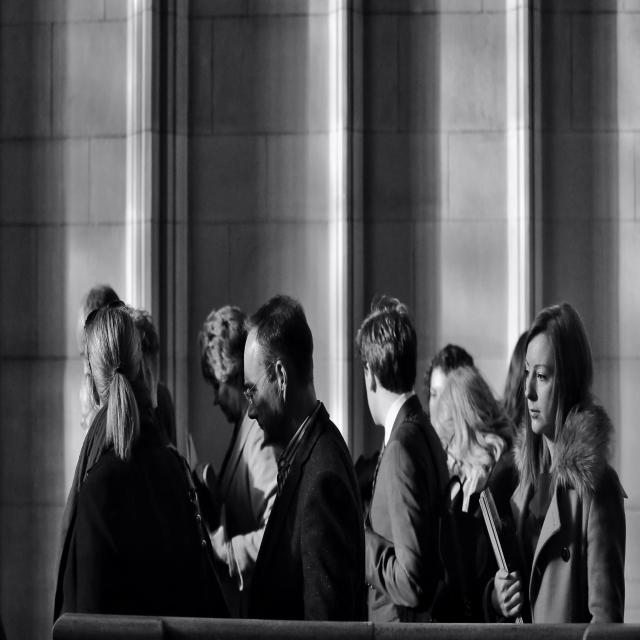adult: (480, 300, 627, 621), (54, 306, 191, 614), (240, 300, 360, 619), (360, 301, 453, 622), (191, 308, 286, 592), (434, 362, 520, 640)
